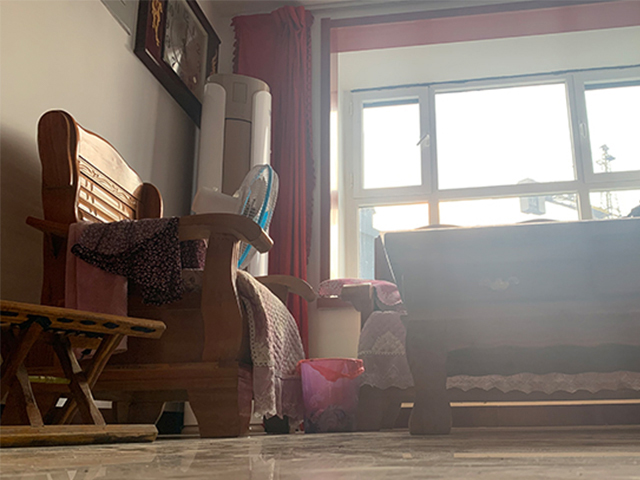sofa: (27, 108, 317, 442)
stool: (1, 299, 166, 446)
table: (383, 217, 640, 436)
trashcan: (297, 357, 366, 434)
